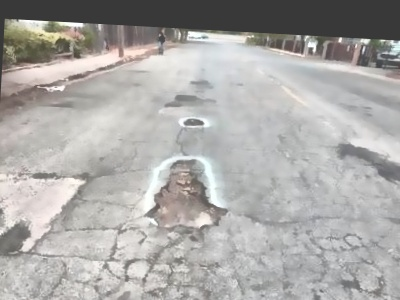pothole: (144, 156, 227, 232), (181, 115, 205, 128)
